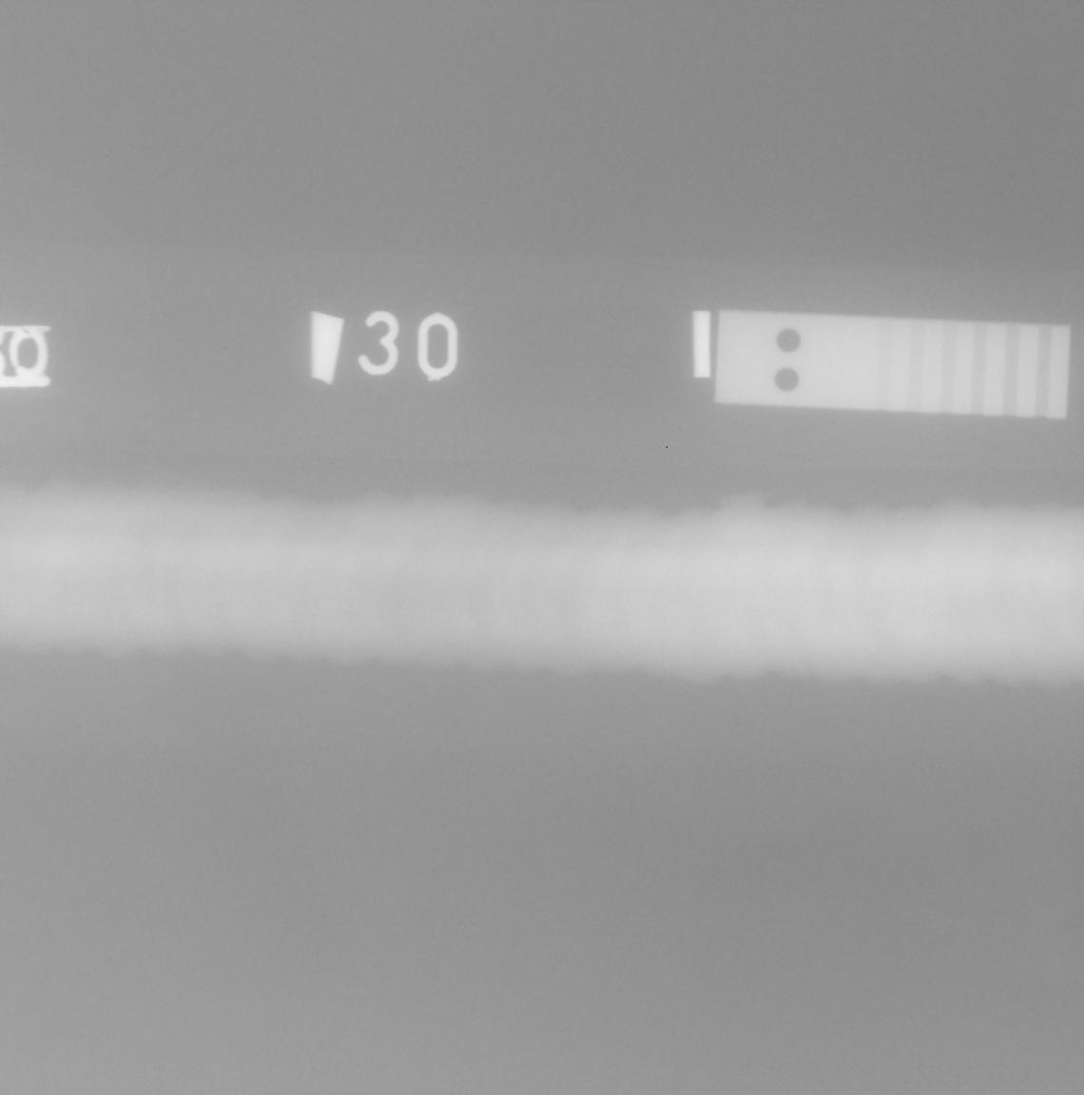Reference Standard 2: (715, 309, 1072, 420)
